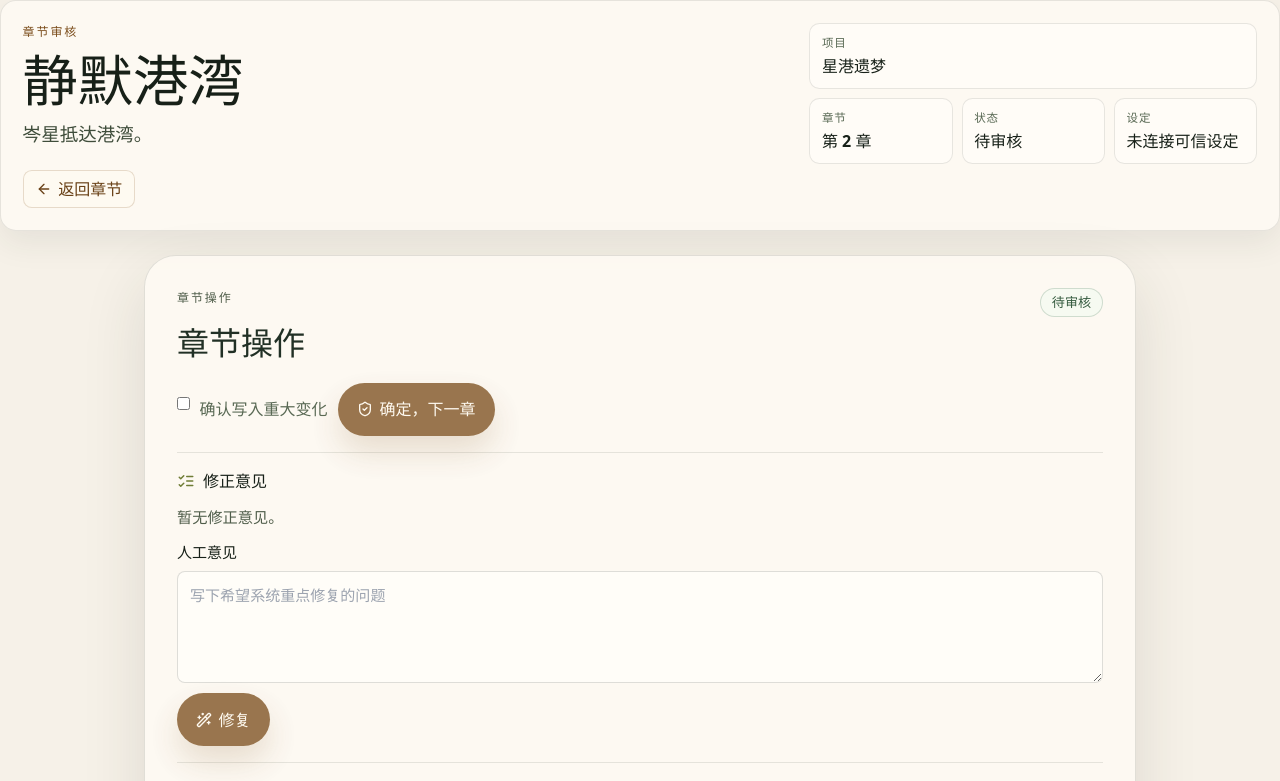
Scenario: major state changes require confirmation before approval
Expected: the heading "静默港湾" is shown, [23, 42, 243, 117]
Expected: the button "确定，下一章" is disabled, [338, 383, 495, 436]
What coordinates should you click on to do the following:
click the checkbox labelled "确认写入重大变化"
I would click on:
 (184, 404)
Its box is [177, 397, 190, 410].
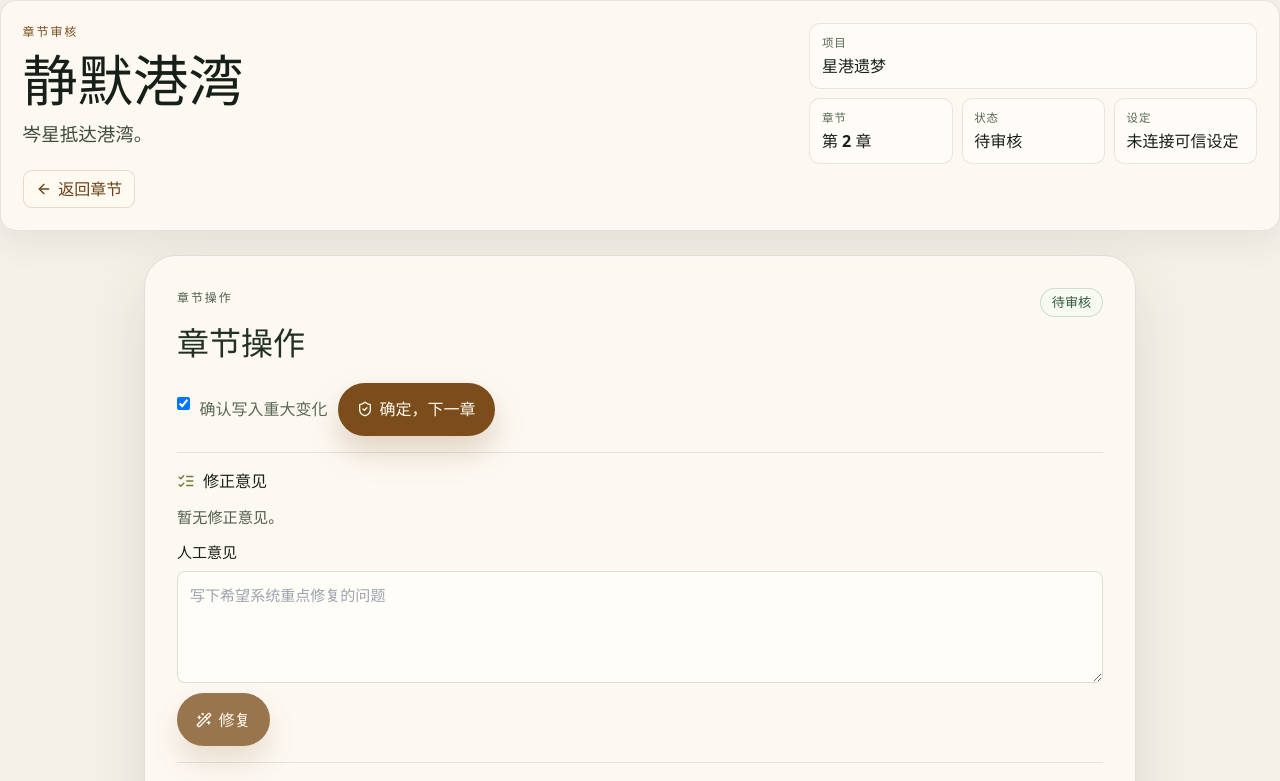
Now the button "确定，下一章" is enabled, box [338, 383, 495, 436]
